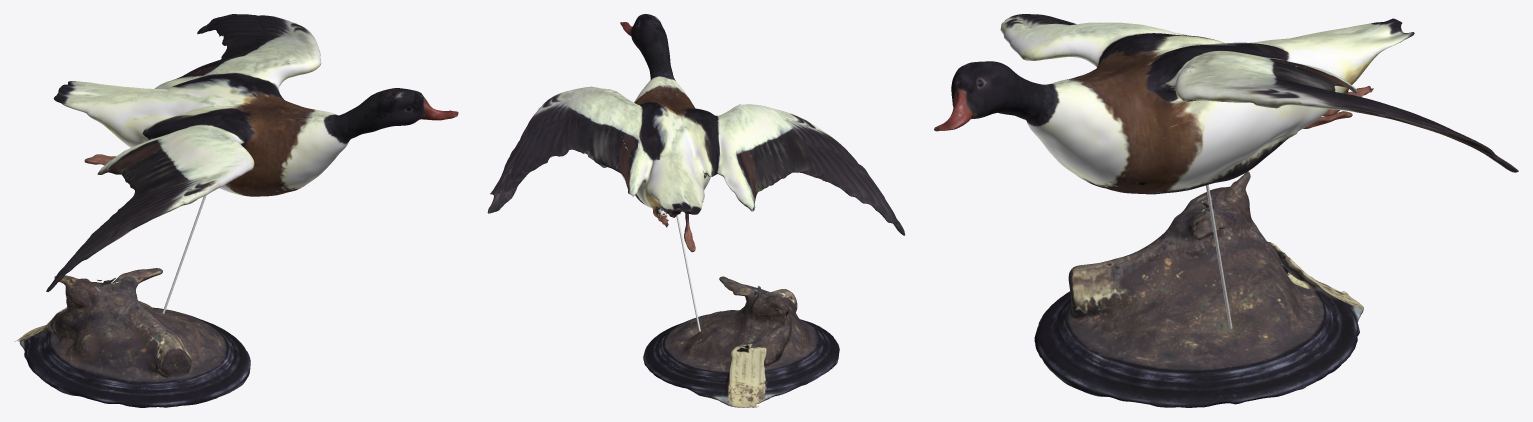
The picture shows the model from 3 angles, left to right: view 1: azimuth 30°, elevation 25°; view 2: azimuth 150°, elevation 25°; view 3: azimuth 270°, elevation 25°; orthographic projection. The views are drawn at different scales.
Visible parts, largest first — view 1: Object_4, Object_3; view 2: Object_4, Object_3; view 3: Object_4, Object_3, Object_5.
Boxes of the visible parts, x1,y1,x2,y2 form: Object_4: (46, 14, 458, 291); Object_3: (14, 268, 250, 407); Object_4: (487, 14, 905, 252); Object_3: (643, 276, 839, 407); Object_4: (934, 14, 1518, 194); Object_3: (1034, 171, 1363, 407); Object_5: (1206, 184, 1232, 328).
Size of the model in its own units: 565 by 424 by 551.
Materials: 2 (1 with a texture image).
